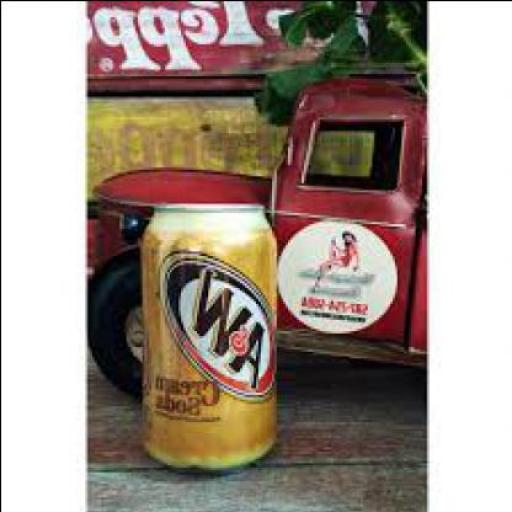metal: (278, 82, 425, 344), (146, 200, 277, 473), (88, 1, 284, 91), (100, 172, 273, 198), (90, 198, 144, 264)
